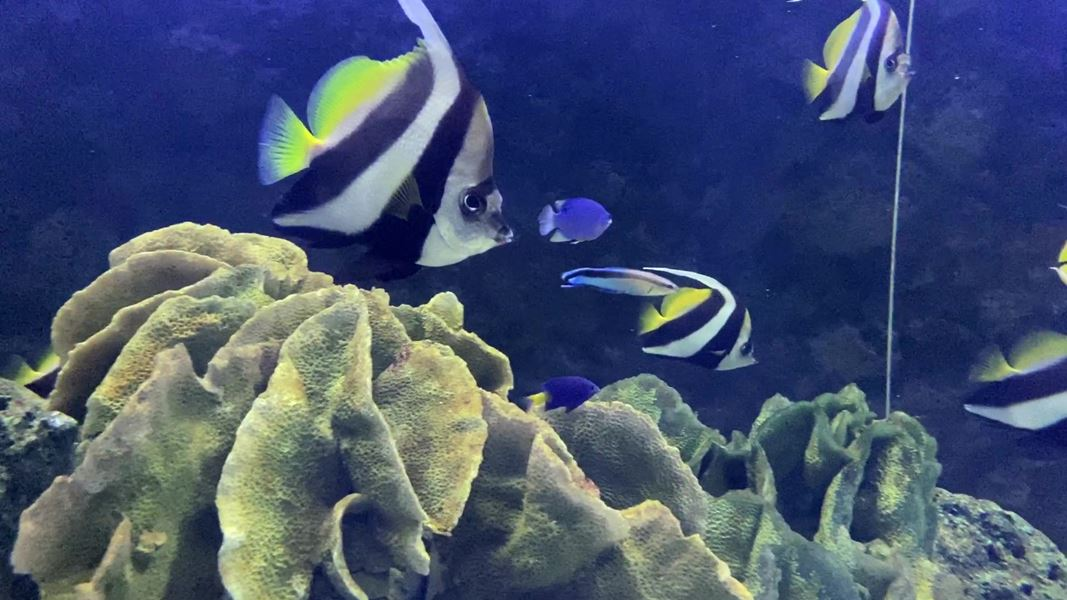Bluesteak cleaner wrasse: (552, 259, 682, 307)
